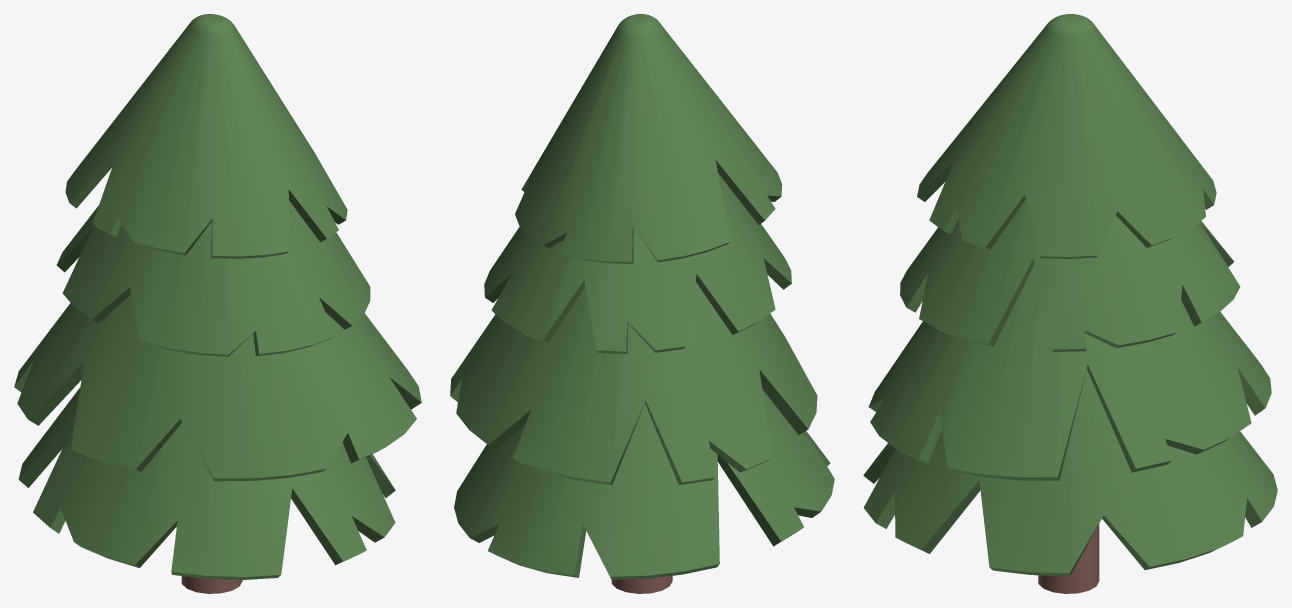
Rendered from LowPolyTree2.fbx.
3 views of the same model, side by side, from view 1: azimuth 30°, elevation 25°; view 2: azimuth 150°, elevation 25°; view 3: azimuth 270°, elevation 25° (orthographic).
Parts seen in each view (by area): view 1: Cylinder.003, Cylinder.005, Cylinder.001, Cylinder.004, Cylinder.002; view 2: Cylinder.003, Cylinder.005, Cylinder.001, Cylinder.004, Cylinder.002; view 3: Cylinder.003, Cylinder.005, Cylinder.001, Cylinder.004, Cylinder.002.
Boxes of the visible parts, <box> form: Cylinder.003: <box>14,295,421,481</box>; Cylinder.005: <box>65,14,347,258</box>; Cylinder.001: <box>18,387,395,579</box>; Cylinder.004: <box>56,200,370,356</box>; Cylinder.002: <box>181,576,242,593</box>; Cylinder.003: <box>450,282,817,485</box>; Cylinder.005: <box>515,14,782,263</box>; Cylinder.001: <box>454,389,834,579</box>; Cylinder.004: <box>484,173,791,354</box>; Cylinder.002: <box>611,576,672,593</box>; Cylinder.003: <box>868,264,1271,480</box>; Cylinder.005: <box>917,14,1216,258</box>; Cylinder.001: <box>863,369,1277,576</box>; Cylinder.004: <box>900,199,1240,351</box>; Cylinder.002: <box>1038,524,1099,593</box>.
Size of the model in its own units: 291 by 466 by 311.
